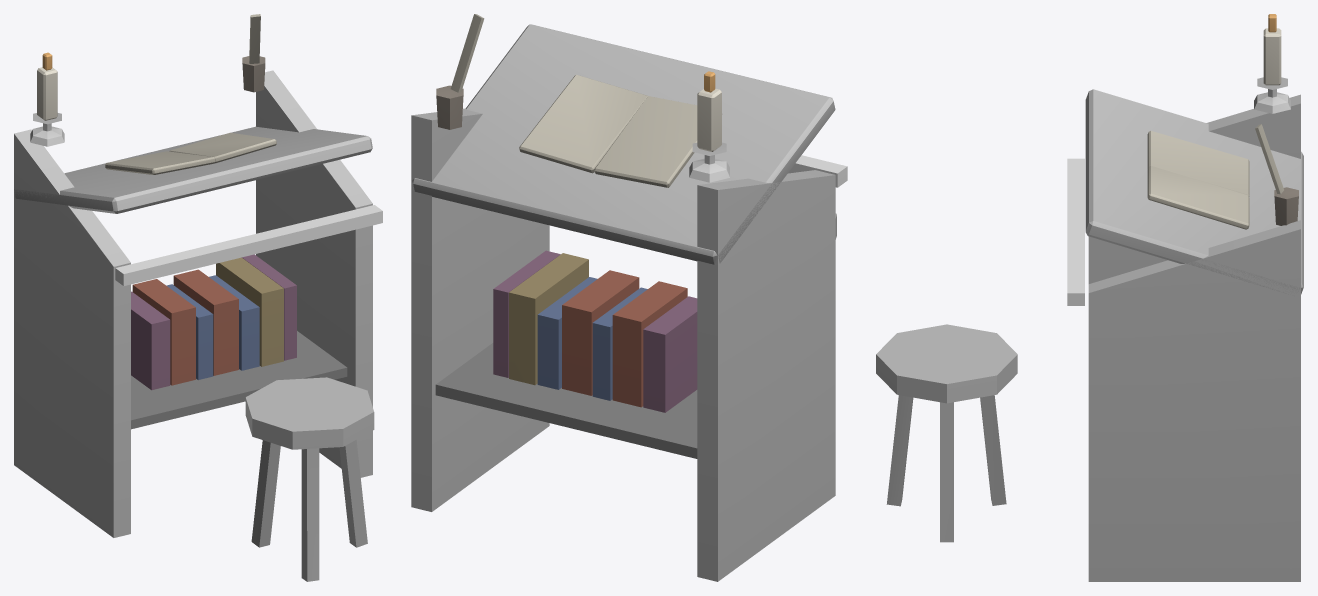
File: writing_desk_1.glb
The picture shows the model from 3 angles, left to right: view 1: azimuth 30°, elevation 25°; view 2: azimuth 150°, elevation 25°; view 3: azimuth 270°, elevation 25°; orthographic projection. The views are drawn at different scales.
Visible parts, largest first — view 1: book; view 2: book; view 3: book.
Part boxes in pixels (<box>): book: <box>14,14,382,581</box>; book: <box>411,14,847,581</box>; book: <box>876,14,1303,581</box>.
Size of the model in its own units: 0.9 by 1.38 by 1.21.
